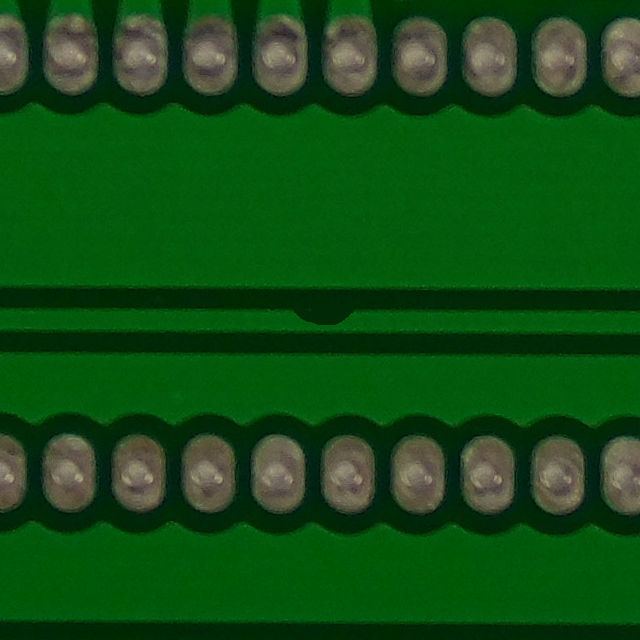mouse_bite: (277, 293, 363, 348)
